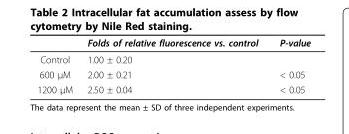table: (36, 36, 310, 94)
table column: (79, 36, 268, 94), (36, 36, 79, 94), (268, 36, 310, 94)
table column header: (36, 36, 310, 50)
table row: (36, 50, 310, 66), (36, 66, 310, 81), (36, 36, 310, 50), (36, 81, 310, 94)
